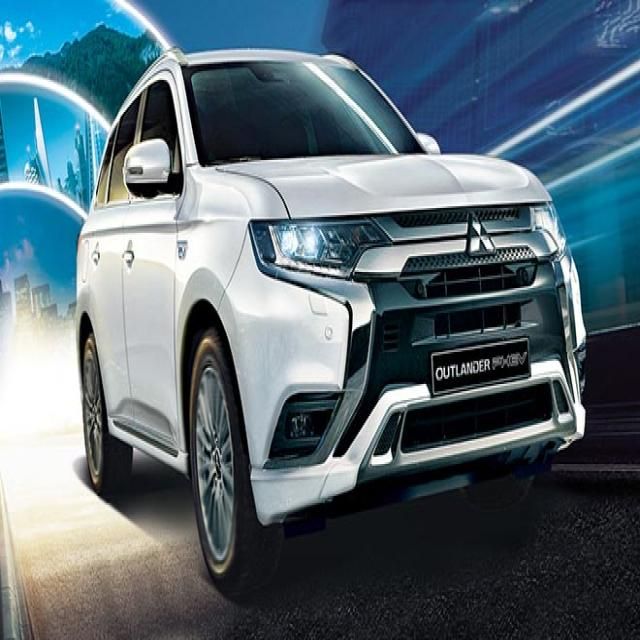light_vehicle: (73, 47, 588, 598)
